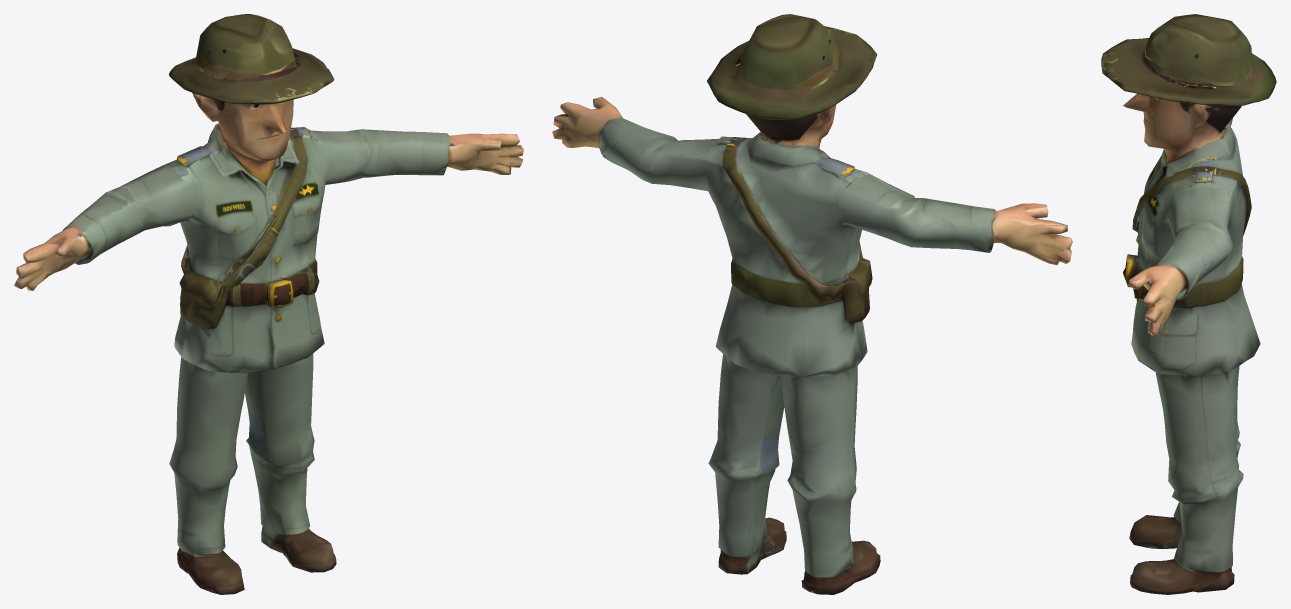
The model's file is GUARDIA_CIVIL__0910003149_texture.fbx.
3 views of the same model, side by side, from view 1: azimuth 30°, elevation 25°; view 2: azimuth 150°, elevation 25°; view 3: azimuth 270°, elevation 25° (orthographic).
Visible parts, largest first — view 1: Mesh1.0; view 2: Mesh1.0; view 3: Mesh1.0.
Boxes of the visible parts, bbox=[...] form: Mesh1.0: bbox=[14, 14, 523, 594]; Mesh1.0: bbox=[552, 14, 1072, 594]; Mesh1.0: bbox=[1101, 14, 1276, 594].
Bounding box in the file's own units: 198 × 199 × 58.85.
1 material, 1 textured.
